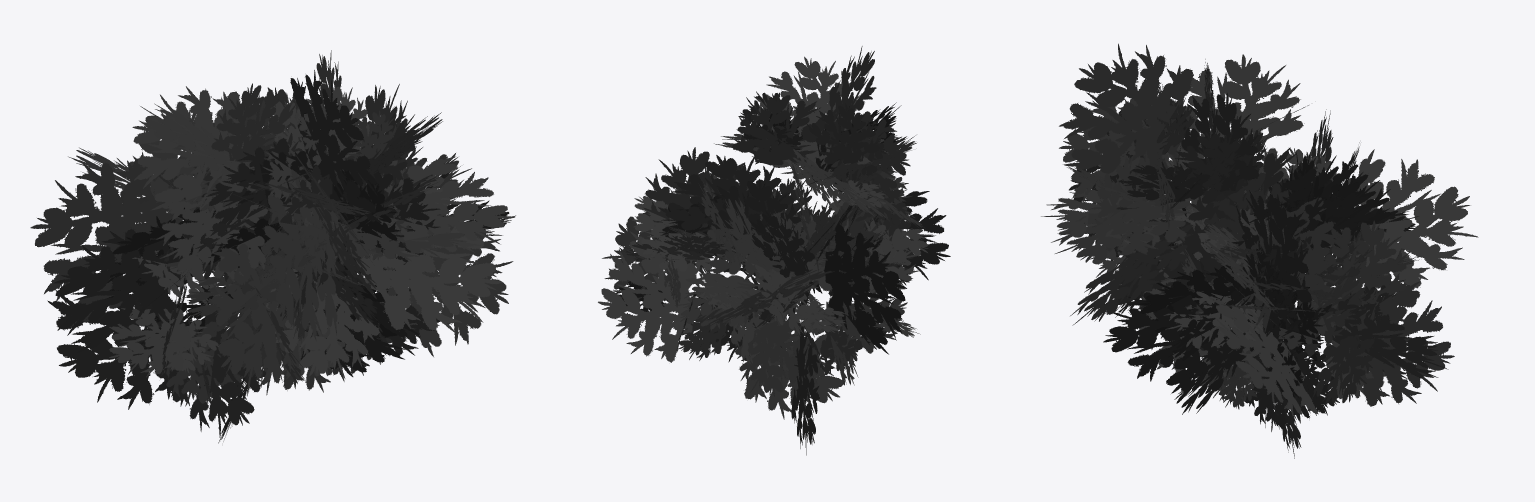
The model's file is SozaTree.fbx.
The picture shows the model from 3 angles, left to right: view 1: azimuth 30°, elevation 25°; view 2: azimuth 150°, elevation 25°; view 3: azimuth 270°, elevation 25°; orthographic projection. The views are drawn at different scales.
Parts seen in each view (by area): view 1: Plane.002; view 2: Plane.002; view 3: Plane.002.
Boxes of the visible parts, x1,y1,x2,y2 form: Plane.002: (30, 50, 515, 443); Plane.002: (598, 46, 950, 455); Plane.002: (1041, 43, 1478, 458).
Size of the model in its own units: 967 by 902 by 951.
Materials: 1 (1 with a texture image).
